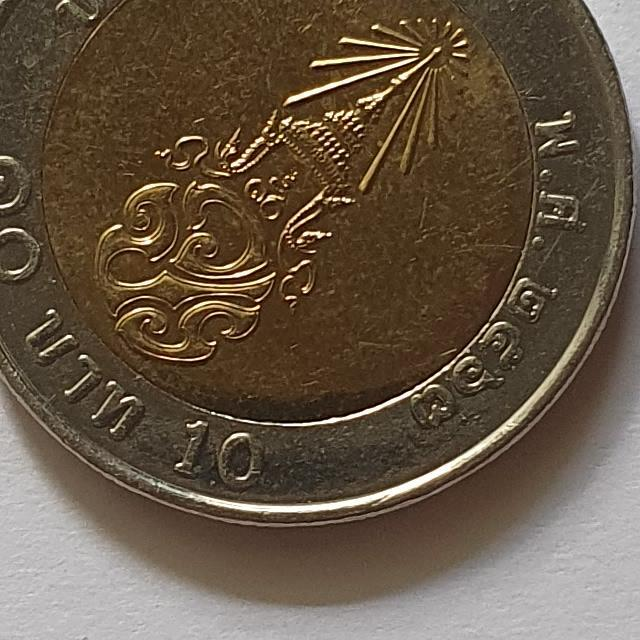10 Bath: (1, 1, 640, 537)
